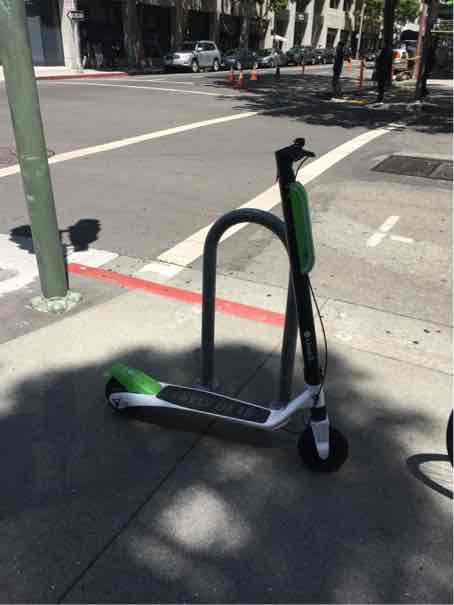scooter: (88, 122, 350, 479)
